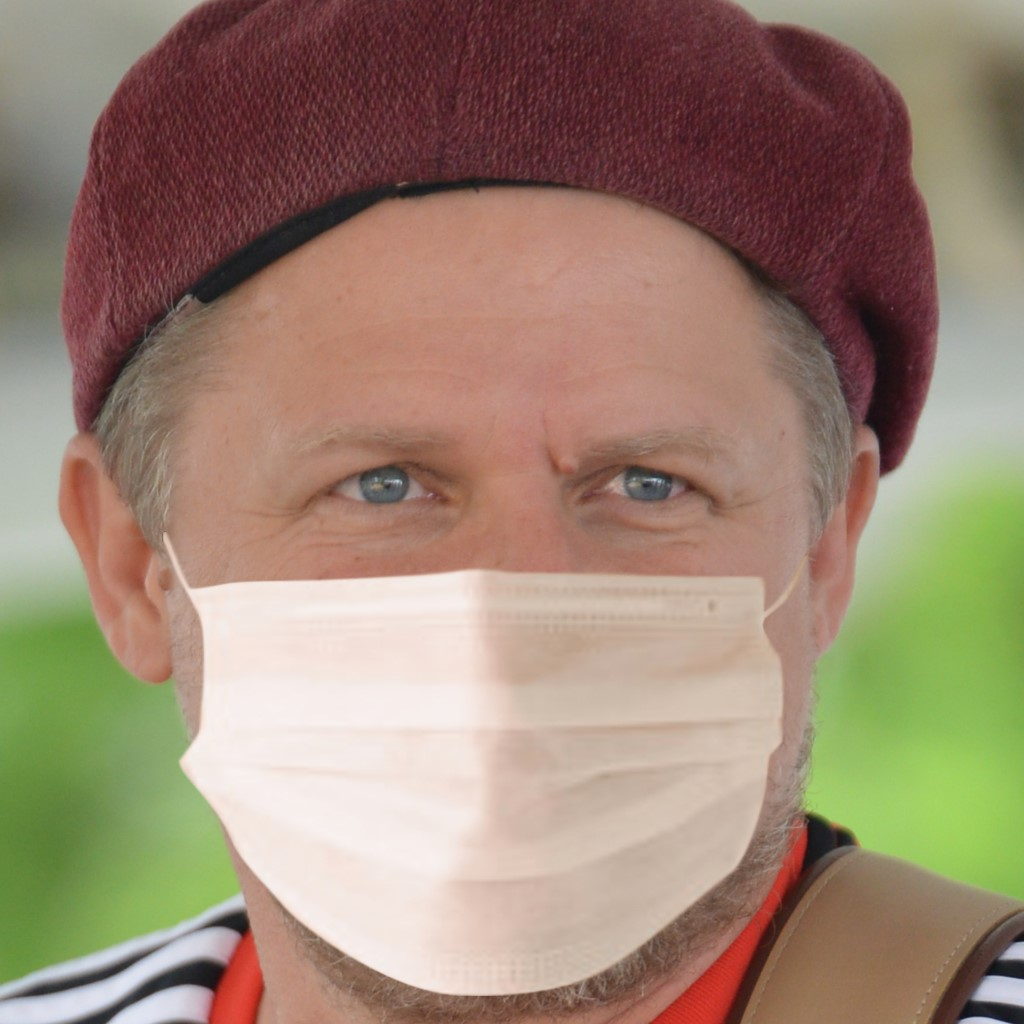con_mascara: (115, 95, 806, 960)
